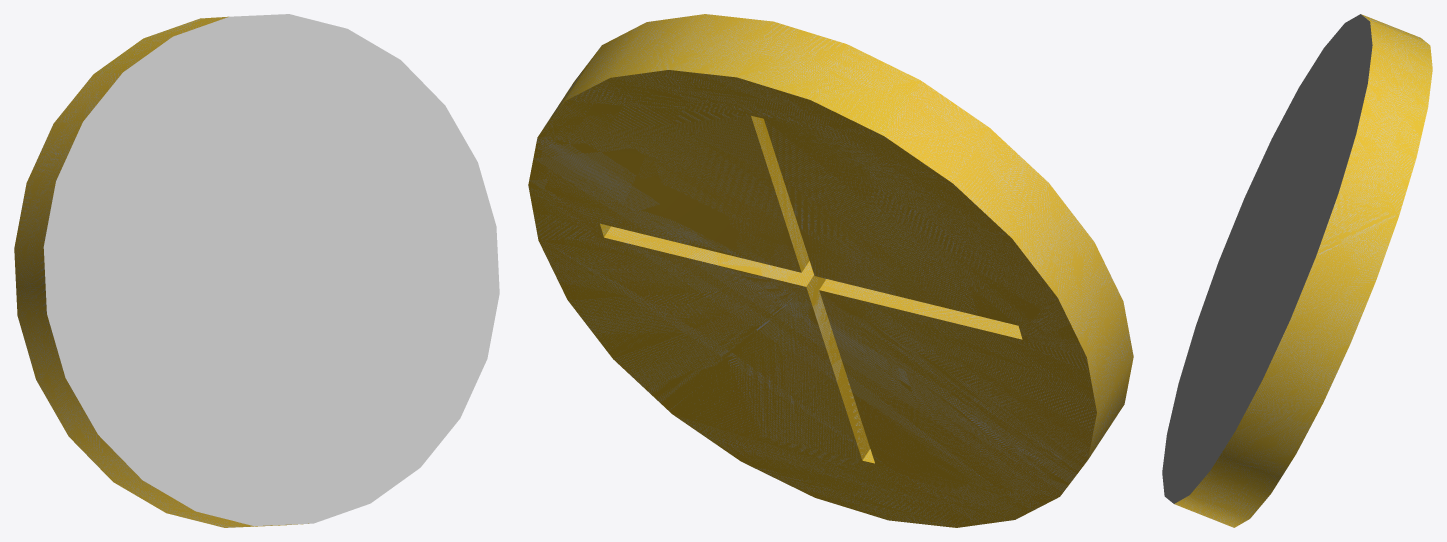
File: original-145.obj
3 renders of one model, left to right at view 1: azimuth 30°, elevation 25°; view 2: azimuth 150°, elevation 25°; view 3: azimuth 270°, elevation 25°, orthographic. The views are drawn at different scales.
Parts seen in each view (by area): view 1: Screw_Head5/Screw_Head/mesh3/mesh3-geometry#mesh3-geometry; view 2: Screw_Head5/Screw_Head/mesh3/mesh3-geometry#mesh3-geometry; view 3: Screw_Head5/Screw_Head/mesh3/mesh3-geometry#mesh3-geometry.
Part boxes in pixels (left/top/right/bottom): Screw_Head5/Screw_Head/mesh3/mesh3-geometry#mesh3-geometry: left=14, top=14, right=499, bottom=527; Screw_Head5/Screw_Head/mesh3/mesh3-geometry#mesh3-geometry: left=528, top=14, right=1133, bottom=527; Screw_Head5/Screw_Head/mesh3/mesh3-geometry#mesh3-geometry: left=1162, top=14, right=1432, bottom=527.
Size of the model in its own units: 0.0108 by 0.0105 by 0.00558.
